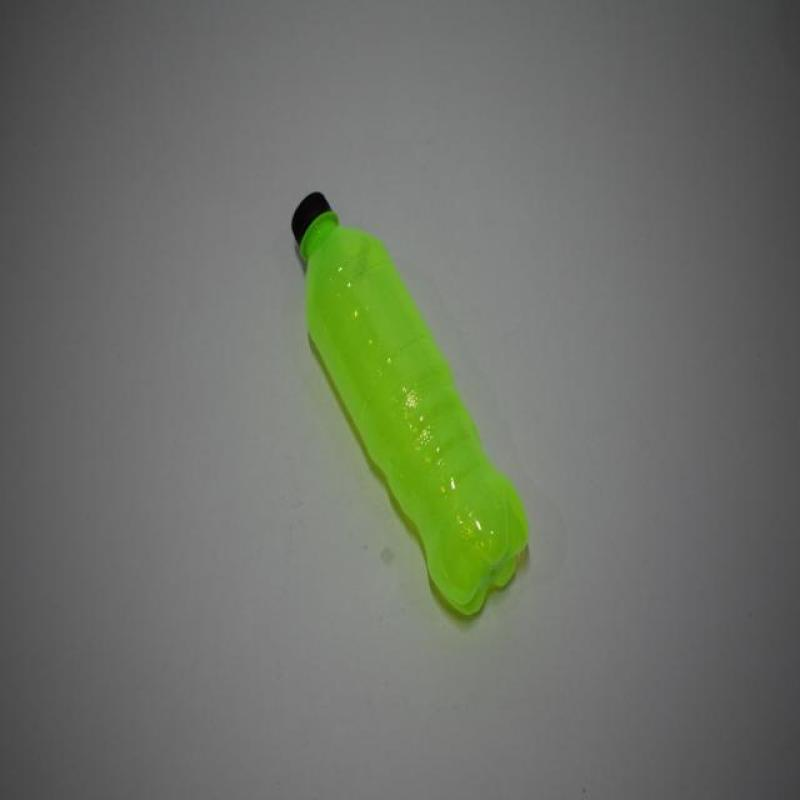botella: (292, 190, 530, 620)
